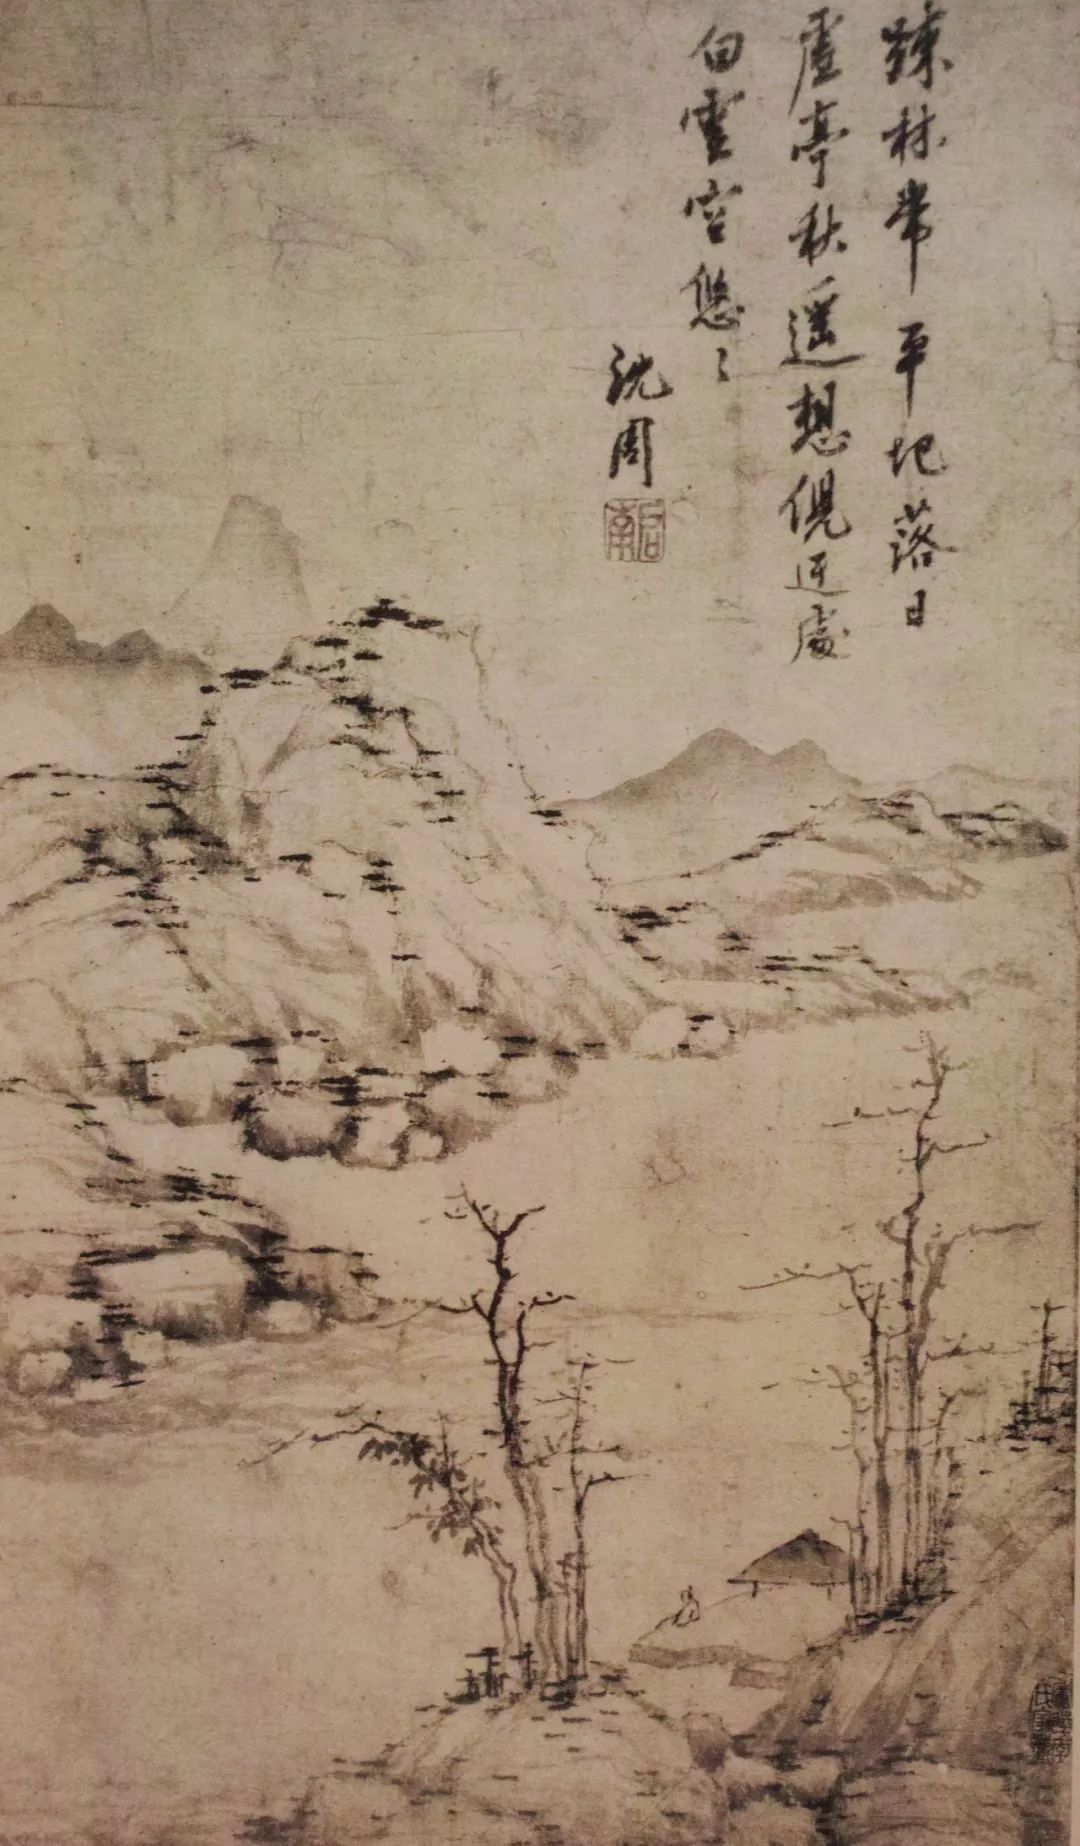booth: (744, 1541, 852, 1606)
hill: (403, 1716, 899, 1843), (962, 1467, 1068, 1800)
man: (680, 1586, 703, 1629)
mountain: (23, 557, 560, 1137), (7, 1147, 295, 1394), (580, 784, 854, 1031), (872, 796, 1066, 892)
river: (11, 1427, 378, 1846), (591, 1068, 766, 1561), (331, 1163, 491, 1414), (956, 919, 1078, 1221), (776, 1074, 880, 1247), (874, 916, 950, 1053)
tree: (482, 1249, 584, 1700), (787, 1261, 880, 1600), (878, 1055, 935, 1594), (950, 1237, 1005, 1455), (397, 1437, 486, 1565), (584, 1447, 625, 1500)
